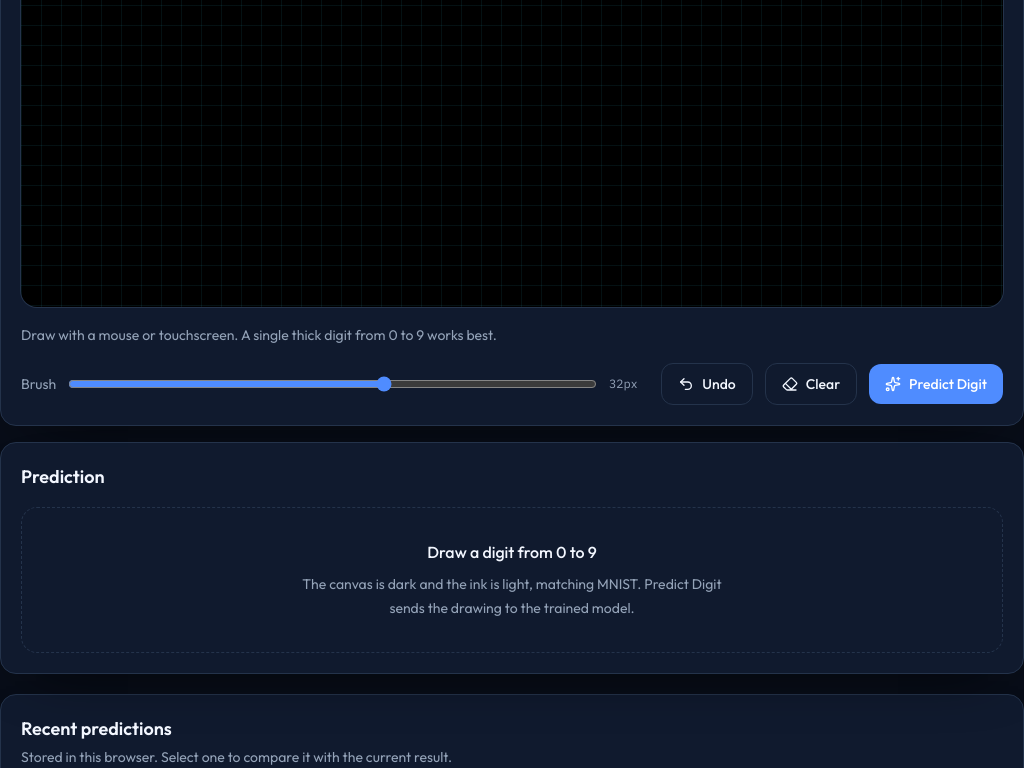
Scenario: Recognition Studio results › clears a finished prediction when the canvas is cleared
(page scrolled)
Click the button with test id "predict-button": coordinates (936, 384) [869,364,1003,404]
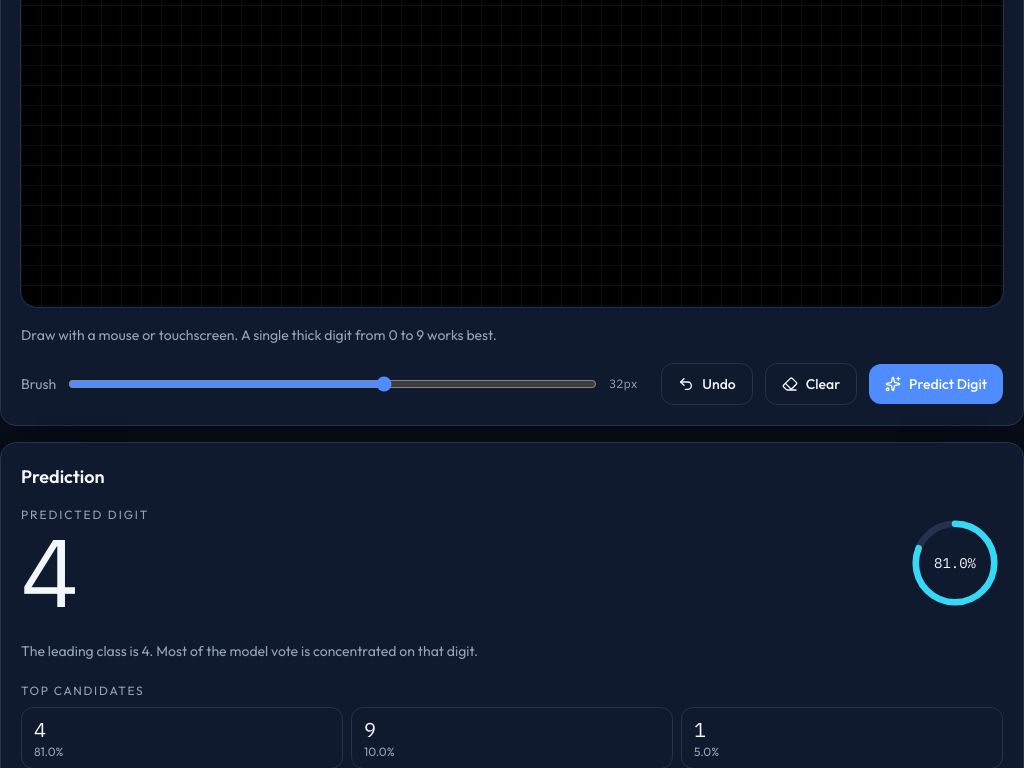
Result: the text with test id "predicted-digit" reads "4" at [21,509,79,633]
Click the button with test id "clear-button": coordinates (811, 384) [765,363,857,405]
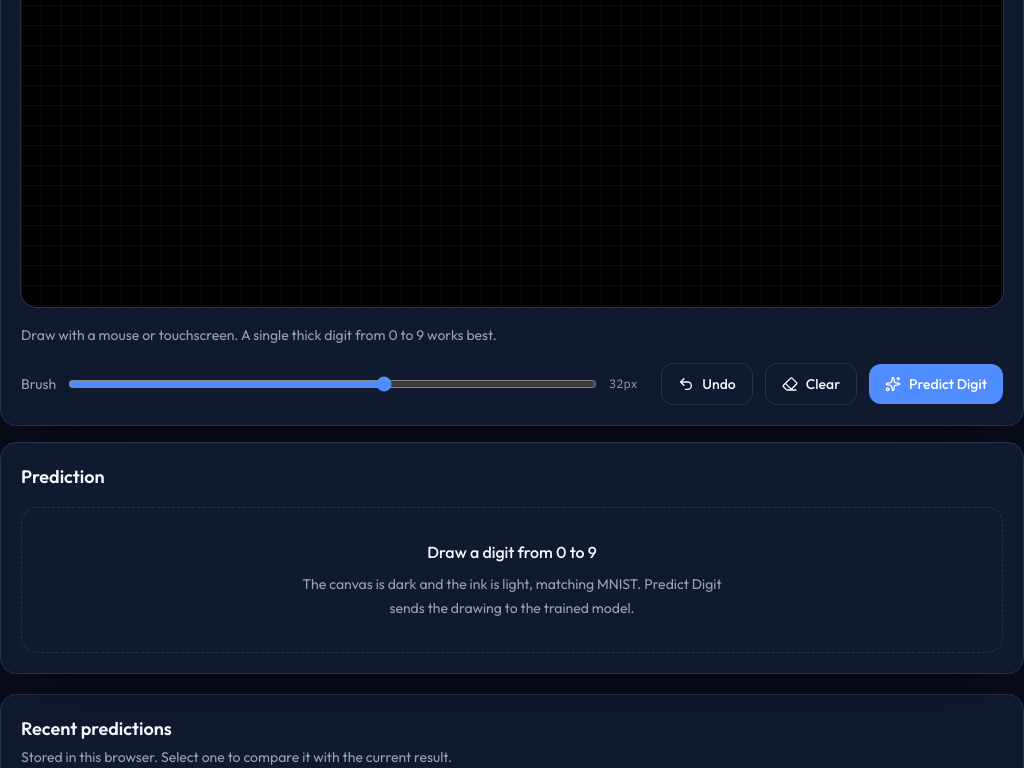
Result: the text with test id "predicted-digit" is gone
Result: the text "Draw a digit from 0 to 9" is shown at [427,542,597,562]
